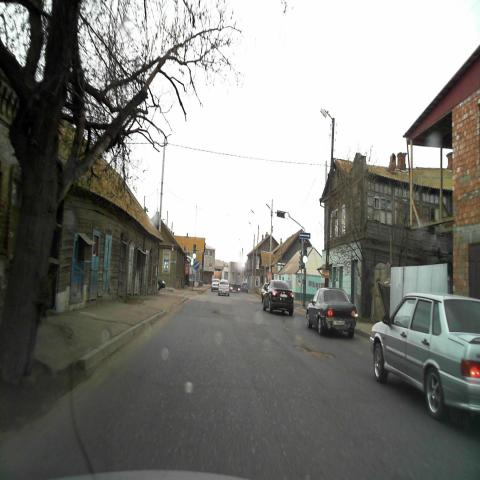5_7_1: (299, 231, 311, 240)
